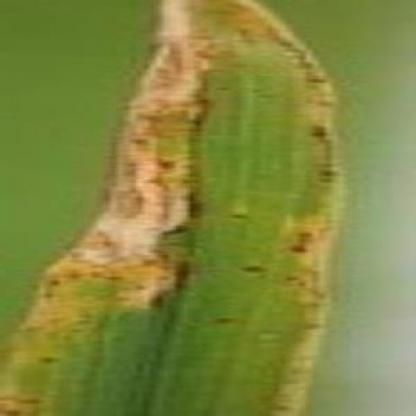Blight: (1, 1, 355, 416)
